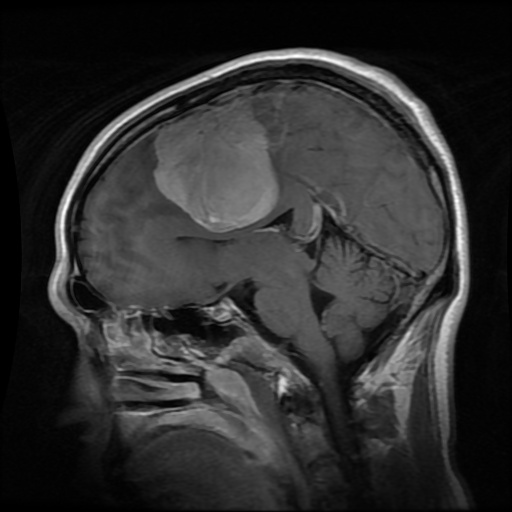meningioma: (153, 95, 281, 233)
